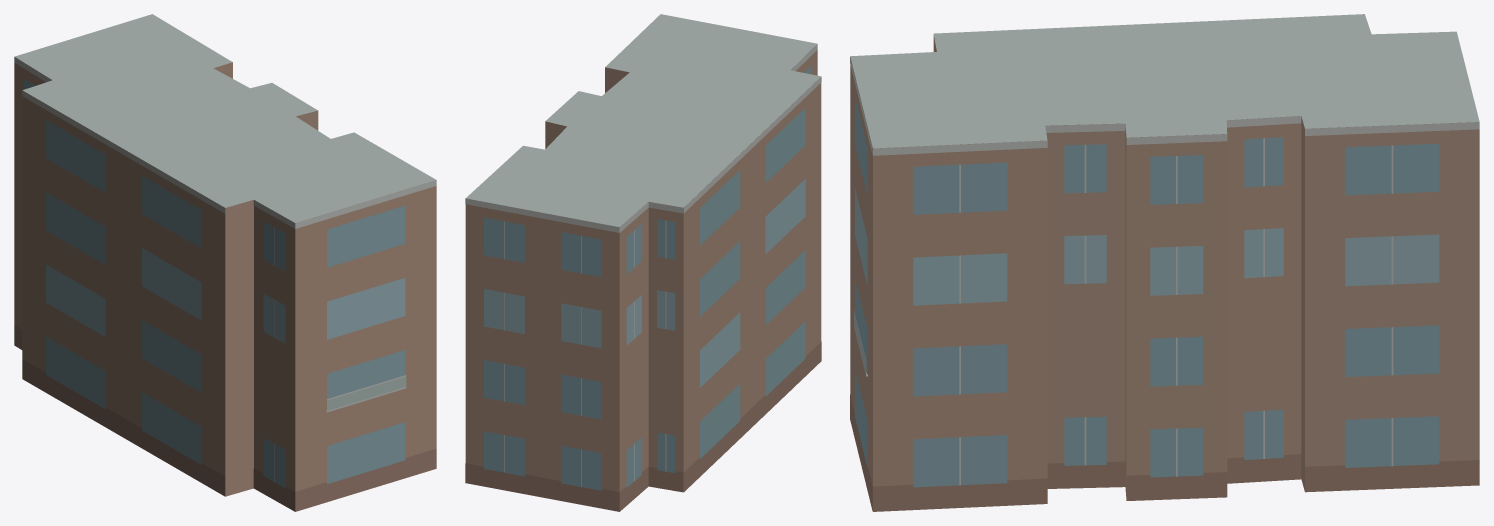
Rendered from survey-upis-33020816.glb.
3 renders of one model, left to right at view 1: azimuth 30°, elevation 25°; view 2: azimuth 150°, elevation 25°; view 3: azimuth 270°, elevation 25°, orthographic. The views are drawn at different scales.
Visible parts, largest first — view 1: survey-upis-33020816.tmp; view 2: survey-upis-33020816.tmp; view 3: survey-upis-33020816.tmp.
Boxes of the visible parts, bbox=[...] form: survey-upis-33020816.tmp: bbox=[14, 14, 436, 511]; survey-upis-33020816.tmp: bbox=[465, 14, 821, 511]; survey-upis-33020816.tmp: bbox=[850, 14, 1479, 511].
Bounding box in the file's own units: 9.53 × 12 × 18.85.
